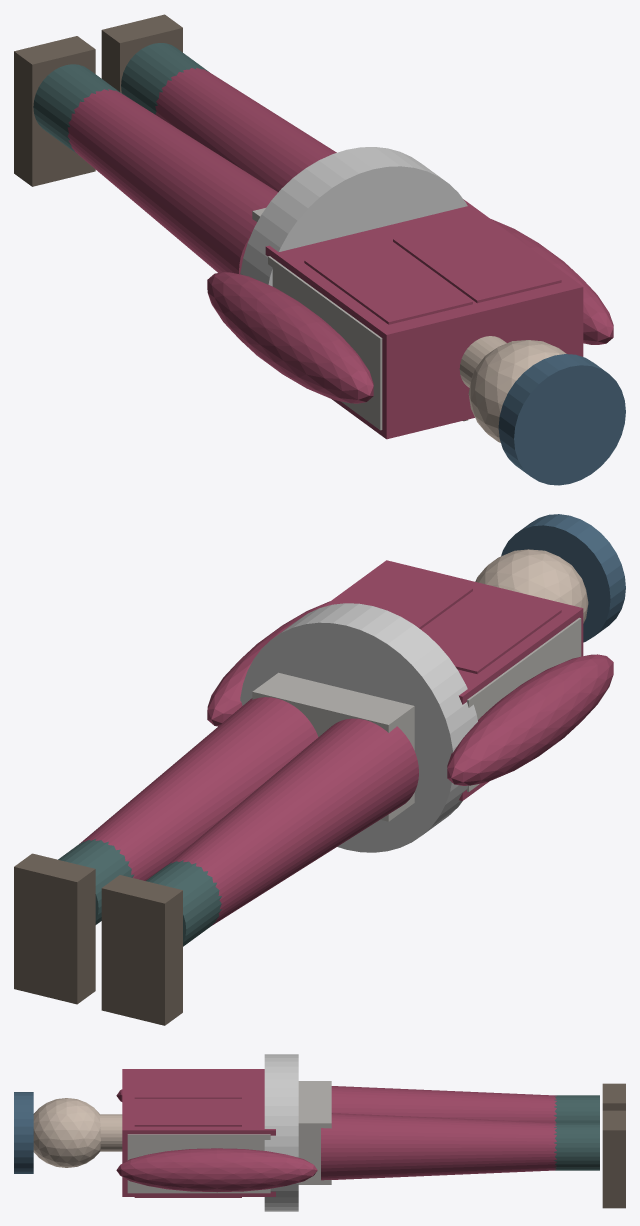
Rendered from MASTER_041_STAGE3_DETAIL.glb.
3 renders of one model, top to bottom at view 1: azimuth 30°, elevation 25°; view 2: azimuth 150°, elevation 25°; view 3: azimuth 270°, elevation 25°, orthographic. The views are drawn at different scales.
Visible parts, largest first — view 1: slot_upper_inner__këmishë, slot_lower_main__pantallona_L, slot_waist__brez, slot_headwear__mbulesë_koke, slot_upper_inner_sleeve_L, slot_lower_main__pantallona_R, slot_upper_outer__jelek/xhamadan_R, slot_upper_outer__jelek/xhamadan_L, slot_footwear__opinga_L, mannequin_torso, mannequin_head, slot_legwear__çorape_L (+4 smaller); view 2: slot_lower_main__pantallona_L, slot_waist__brez, slot_lower_main__pantallona_R, slot_footwear__opinga_R, slot_footwear__opinga_L, slot_upper_inner_sleeve_L, slot_upper_outer__jelek/xhamadan_L, slot_headwear__mbulesë_koke, mannequin_hips, slot_upper_inner__këmishë, mannequin_head, slot_upper_outer__jelek/xhamadan_R (+4 smaller); view 3: slot_lower_main__pantallona_R, slot_upper_inner_sleeve_R, slot_lower_main__pantallona_L, slot_upper_inner__këmishë, slot_waist__brez, mannequin_head, slot_upper_outer__jelek/xhamadan_R, mannequin_torso, slot_upper_outer__jelek/xhamadan_L, mannequin_hips, slot_footwear__opinga_R, slot_legwear__çorape_R (+4 smaller).
Part boxes in pixels (x1,y1,x2,y2): slot_upper_inner__këmishë: (265, 199, 583, 439); slot_lower_main__pantallona_L: (67, 89, 277, 274); slot_waist__brez: (240, 147, 467, 286); slot_headwear__mbulesë_koke: (498, 354, 625, 485); slot_upper_inner_sleeve_L: (207, 272, 373, 403); slot_lower_main__pantallona_R: (155, 68, 336, 192); slot_upper_outer__jelek/xhamadan_R: (393, 218, 561, 303); slot_upper_outer__jelek/xhamadan_L: (304, 240, 472, 324); slot_footwear__opinga_L: (14, 36, 95, 186); mannequin_torso: (268, 256, 382, 430); mannequin_head: (468, 340, 566, 442); slot_legwear__çorape_L: (33, 64, 121, 154); slot_lower_main__pantallona_L: (167, 718, 418, 925); slot_waist__brez: (240, 603, 477, 852); slot_lower_main__pantallona_R: (79, 697, 318, 880); slot_footwear__opinga_R: (14, 853, 95, 1004); slot_footwear__opinga_L: (101, 875, 182, 1025); slot_upper_inner_sleeve_L: (447, 654, 613, 785); slot_upper_outer__jelek/xhamadan_L: (422, 589, 561, 673); slot_headwear__mbulesë_koke: (501, 514, 625, 642); mannequin_hips: (252, 672, 414, 821); slot_upper_inner__këmishë: (322, 560, 583, 800); mannequin_head: (475, 549, 588, 623); slot_upper_outer__jelek/xhamadan_R: (340, 568, 472, 629); slot_lower_main__pantallona_R: (321, 1113, 556, 1180); slot_upper_inner_sleeve_R: (116, 1148, 317, 1192); slot_lower_main__pantallona_L: (331, 1086, 556, 1122); slot_upper_inner__këmishë: (122, 1069, 275, 1196); slot_waist__brez: (264, 1054, 298, 1211); mannequin_head: (33, 1098, 100, 1167); slot_upper_outer__jelek/xhamadan_R: (134, 1098, 241, 1197); mannequin_torso: (127, 1134, 270, 1193); slot_upper_outer__jelek/xhamadan_L: (134, 1071, 241, 1098); mannequin_hips: (298, 1081, 331, 1184); slot_footwear__opinga_R: (602, 1110, 625, 1208); slot_legwear__çorape_R: (554, 1122, 599, 1170).
Bounding box in the file's own units: 0.6161 × 0.44 × 1.71.
